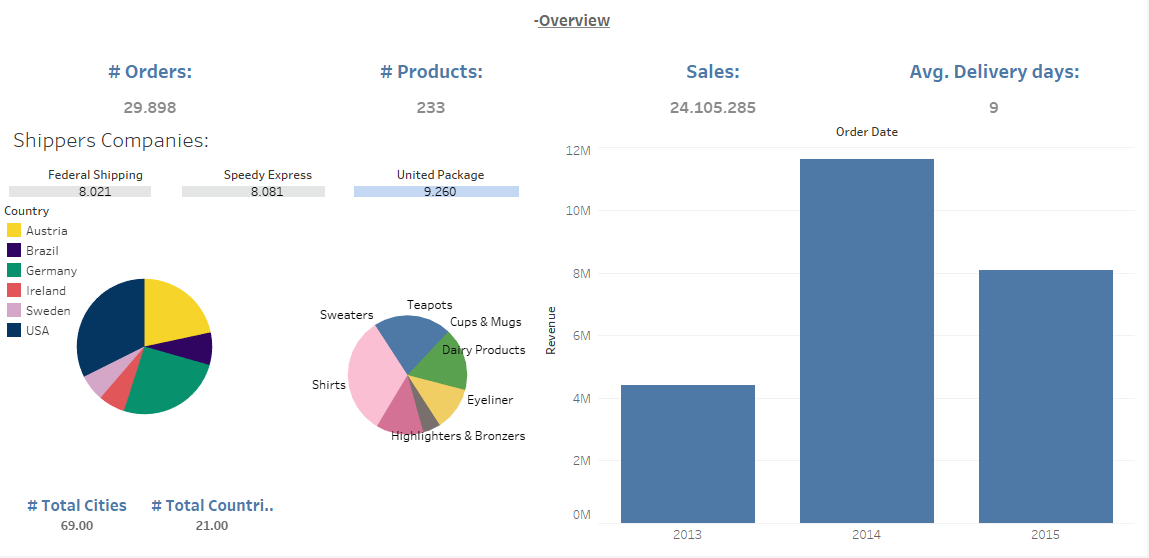

This screenshot's page, from the dashboard's own definition file:
{"tool":"tableau","page":{"name":"Overview","canvas":[1000,1000],"units":"permille","ordinal":0},"visuals":[{"type":"text","box":[7,14.3,986.1,57.1]},{"type":"worksheet","title":"KPIs","mark":"Automatic","box":[7,71.4,986.1,144.6]},{"type":"worksheet","title":"Top_shippiers","mark":"Bar","cols":["companyName (DimShippers.csv)"],"box":[7,216.1,457.2,151.8]},{"type":"worksheet","title":"revenue_year","mark":"Bar","rows":["Calculation_195625173695627265"],"cols":["orderDate"],"box":[464.2,216.1,528.9,769.6]},{"type":"legend","title":"Top_countries","param":"[federated.10h2wtn0e5lbis1h2qq3v0p3cqch].[none:country:nk]","box":[6.1,367.9,214.8,291.1]},{"type":"worksheet","title":"Top_countries","mark":"Pie","box":[7,367.9,242.6,516.1]},{"type":"worksheet","title":"Top_products","mark":"Pie","box":[249.6,367.9,214.6,617.9]},{"type":"worksheet","title":"Total_countries","mark":"Automatic","box":[7,883.9,242.6,101.8]}]}

Visuals, with their boxes on the dashboard's canvas, which has no fixed pixel size, in thousandths of its width and height (x1, y1, x2, y2). These are canvas units, not pixel positions in the 1149x558 screenshot, which may show the page scaled, cropped or inside an application window:
text: x1=7, y1=14, x2=993, y2=71
"KPIs" worksheet: x1=7, y1=71, x2=993, y2=216
"Top_shippiers" worksheet (Bar marks): x1=7, y1=216, x2=464, y2=368
"revenue_year" worksheet (Bar marks): x1=464, y1=216, x2=993, y2=986
"Top_countries" legend: x1=6, y1=368, x2=221, y2=659
"Top_countries" worksheet (Pie marks): x1=7, y1=368, x2=250, y2=884
"Top_products" worksheet (Pie marks): x1=250, y1=368, x2=464, y2=986
"Total_countries" worksheet: x1=7, y1=884, x2=250, y2=986
